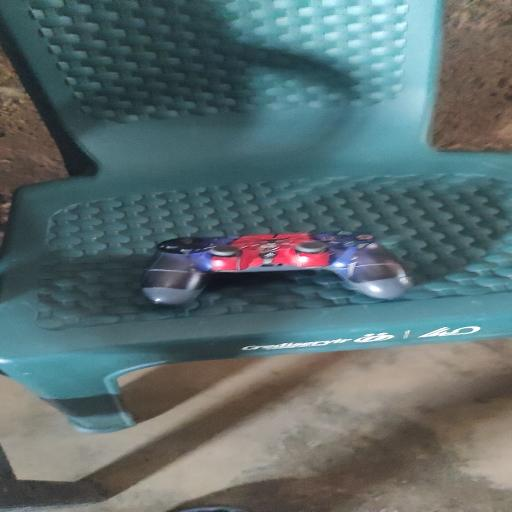ControlPlay4: (142, 231, 412, 305)
